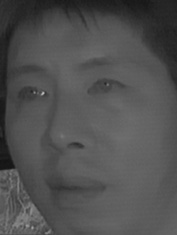eye: (85, 77, 127, 101), (13, 85, 49, 107)
mouth: (42, 168, 108, 209)
